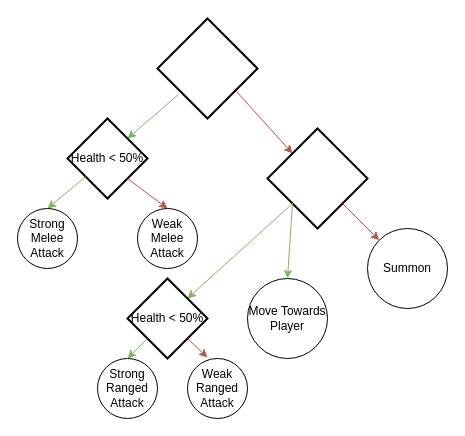
This 465x436 diagram has some shape labels left out. Here are the shapes that lost their labels. From the top down, the box of each, then its label:
(156, 17, 258, 119): Closer To Player?
(266, 127, 368, 229): Already Summoned Recently?
